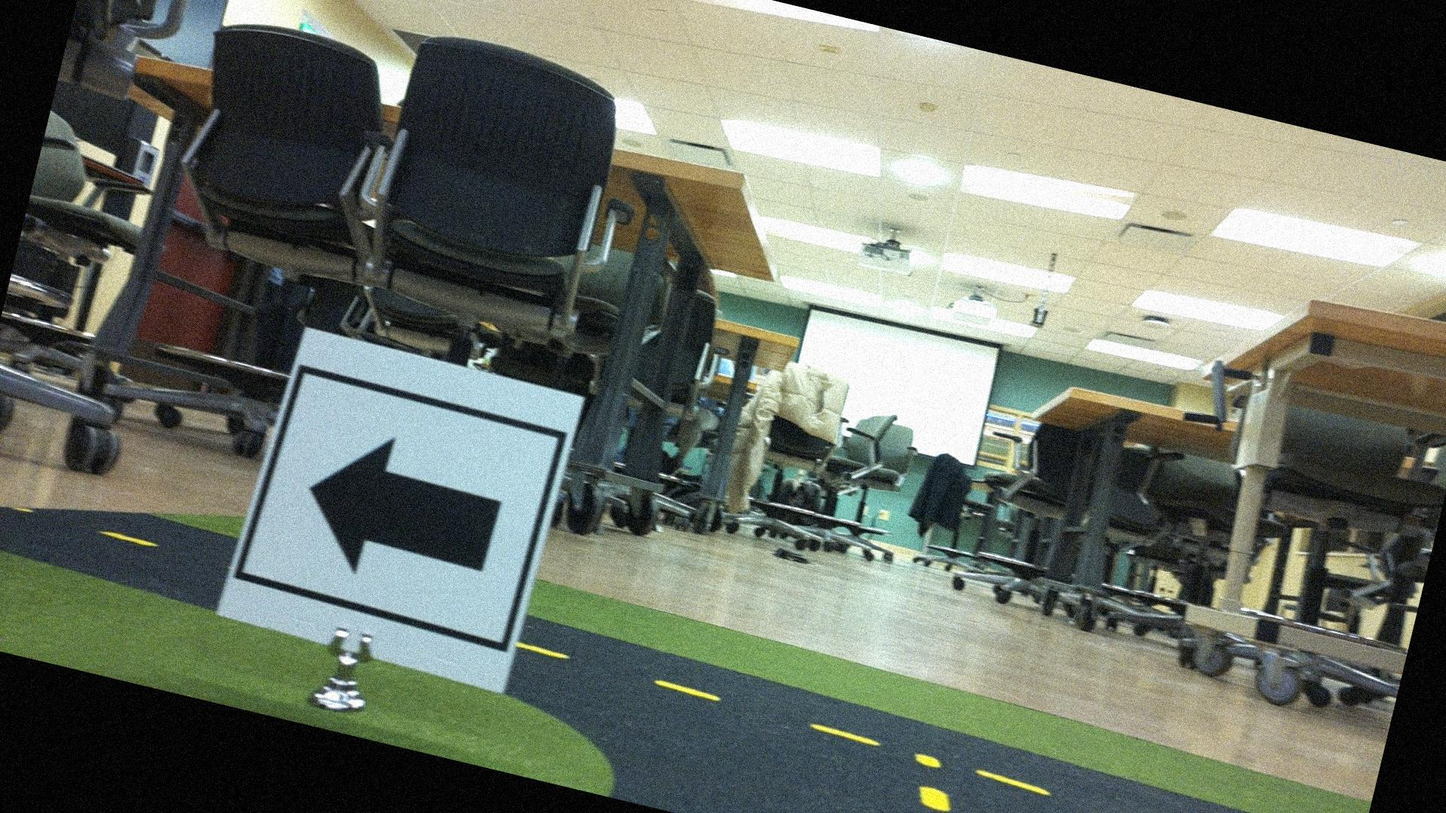turnleft: (239, 333, 572, 687)
yellowline: (516, 641, 1362, 812), (906, 784, 980, 812)
